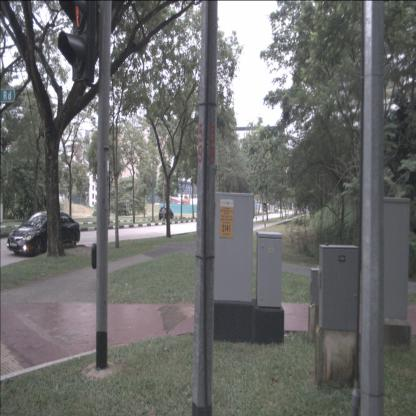human-pedestrian-adult: (288, 206, 290, 216)
vehicle-car: (7, 210, 80, 258), (158, 206, 174, 221)
